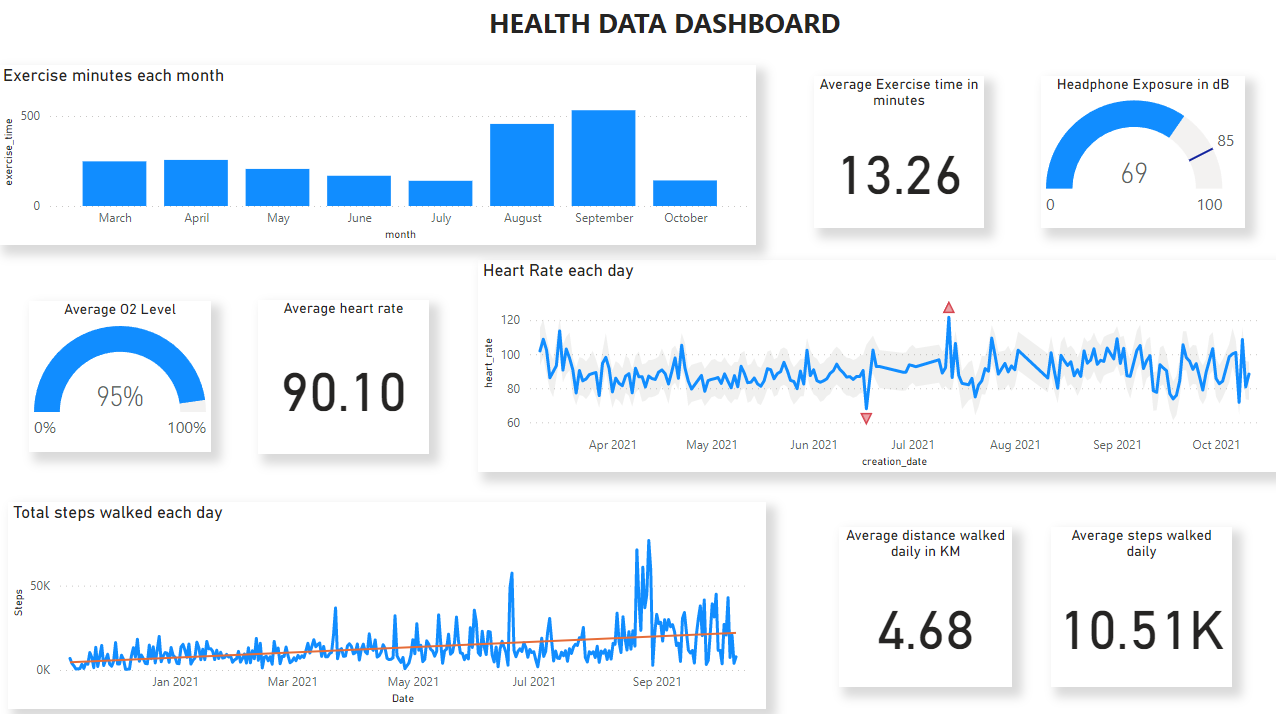

This screenshot's page, from the dashboard's own definition file:
{"tool":"powerbi","page":{"name":"Page 1","canvas":[1280,720],"ordinal":0},"visuals":[{"type":"lineChart","title":"Total steps walked each day","fields":{"Category":["applehealthreport stepcount.creation_date"],"Y":["Sum(applehealthreport stepcount.total_steps)"]},"box":[10,503,758,207],"z":0},{"type":"gauge","title":"Average O2 Level","fields":{"Y":["Median(applehealthreport oxygensaturation.o2_level)"]},"box":[31,302,182,151],"z":1001},{"type":"card","title":"Average heart rate","fields":{"Values":["Avg(applehealthreport heartrate.heart_rate)"]},"box":[260,301,171,154],"z":1002},{"type":"lineChart","title":"Heart Rate each day","fields":{"Category":["applehealthreport heartrate.creation_date"],"Y":["Sum(applehealthreport heartrate.heart_rate)"]},"box":[480,261.3,799.7,211.8],"z":1003},{"type":"card","title":"Average distance walked daily in KM","fields":{"Values":["Median(applehealthreport distancewalkingrunning.distance)"]},"box":[841,528,173,160],"z":1004},{"type":"gauge","title":"Headphone Exposure in dB","fields":{"Y":["Median(applehealthreport headphoneaudioexposure.headphone_audio_exposure)"]},"box":[1043.1,77.2,203.9,151.4],"z":1005},{"type":"textbox","box":[453.3,0,426.6,46.5],"z":1006},{"type":"columnChart","title":"Exercise minutes each month","fields":{"Category":["applehealthreport appleexercisetime.month"],"Y":["Sum(applehealthreport appleexercisetime.exercise_time)"]},"box":[0,66,758,180],"z":1007},{"type":"card","title":"Average steps walked daily","fields":{"Values":["Median(applehealthreport stepcount.total_steps)"]},"box":[1053,528,181,160],"z":1008},{"type":"card","title":"Average Exercise time in minutes","fields":{"Values":["Avg(applehealthreport appleexercisetime.exercise_time)"]},"box":[816,77,170,152],"z":1009}]}

Visuals, with their boxes in screenshot pixels (x1, y1, x2, y2), scaled from the page's 1280x720 canvas onto the 1276x714 screenshot:
"Total steps walked each day" lineChart: 10/499/766/704
"Average O2 Level" gauge: 31/299/212/449
"Average heart rate" card: 259/298/430/451
"Heart Rate each day" lineChart: 478/259/1275/469
"Average distance walked daily in KM" card: 838/524/1011/682
"Headphone Exposure in dB" gauge: 1040/77/1243/227
textbox: 452/0/877/46
"Exercise minutes each month" columnChart: 0/65/756/244
"Average steps walked daily" card: 1050/524/1230/682
"Average Exercise time in minutes" card: 813/76/983/227
